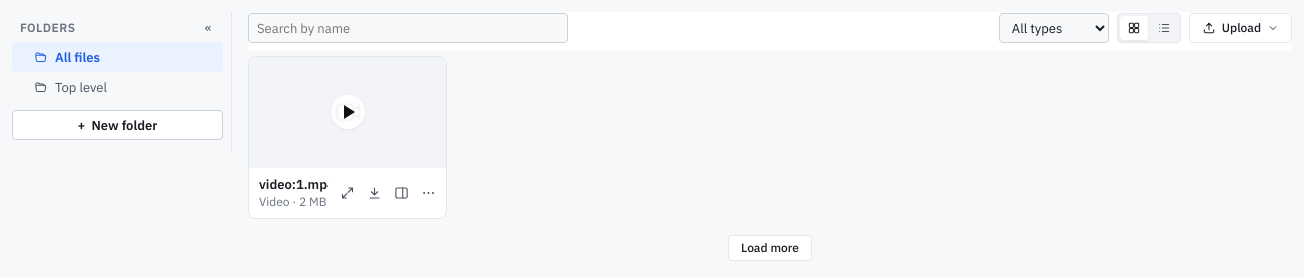
Test case: Assets grid › loads more with the cursor and appends
The image size is (1304, 278).
Click the button "Load more": (770, 248) [728,235,812,261]
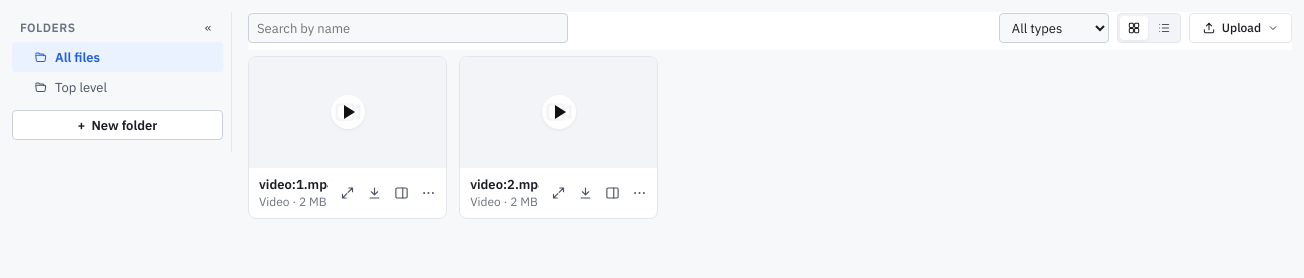
expect the number of list items with test id "asset-card" is 2: met, box [248,56,447,219]; [459,56,658,219]
expect the button "Load more" is gone: met
